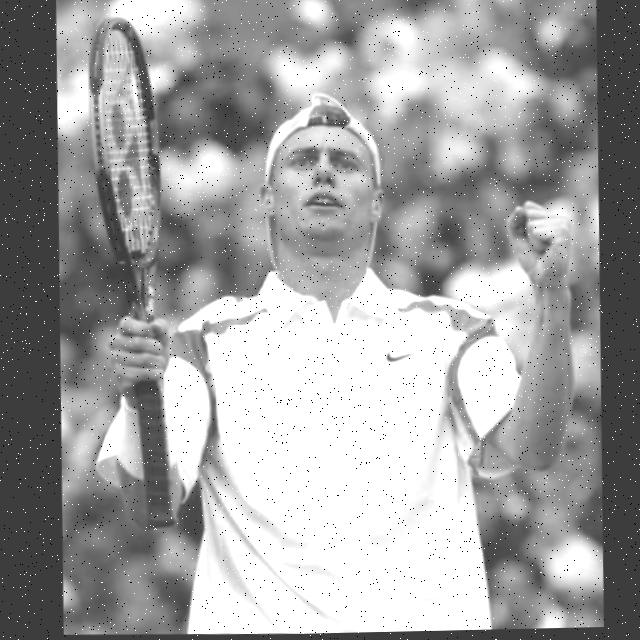face: (243, 93, 388, 265)
